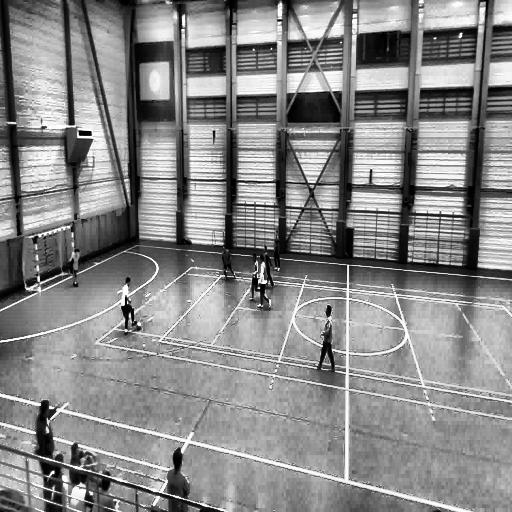ball: (136, 320, 144, 334)
player: (34, 402, 55, 481), (314, 304, 336, 372), (121, 275, 139, 334), (257, 252, 271, 308), (248, 250, 262, 304), (261, 243, 276, 293), (222, 245, 236, 279), (70, 248, 80, 288), (273, 233, 281, 269)
